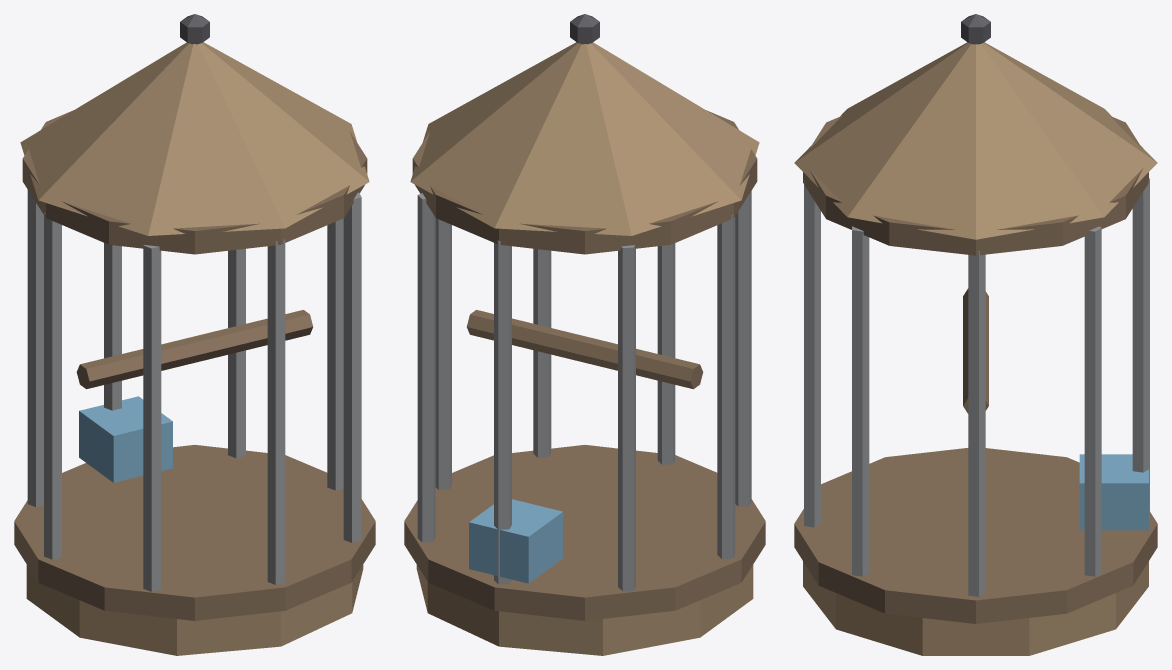
File: pets_gaiola.glb
3 renders of one model, left to right at view 1: azimuth 30°, elevation 25°; view 2: azimuth 150°, elevation 25°; view 3: azimuth 270°, elevation 25°, orthographic.
Parts seen in each view (by area): view 1: PETS_GAIOLA_v01; view 2: PETS_GAIOLA_v01; view 3: PETS_GAIOLA_v01.
Boxes of the visible parts, left/top/right/bottom form: PETS_GAIOLA_v01: left=14, top=14, right=375, bottom=655; PETS_GAIOLA_v01: left=404, top=14, right=765, bottom=655; PETS_GAIOLA_v01: left=794, top=14, right=1157, bottom=655.
Bounding box in the file's own units: 0.42 × 0.73 × 0.42.
